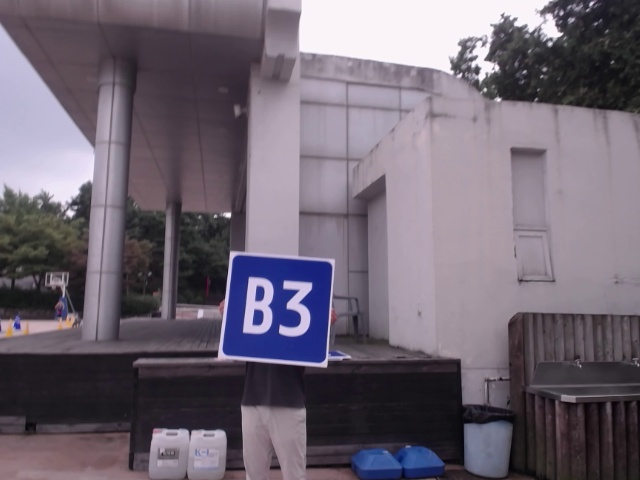delivery_b3: (220, 252, 334, 369)
